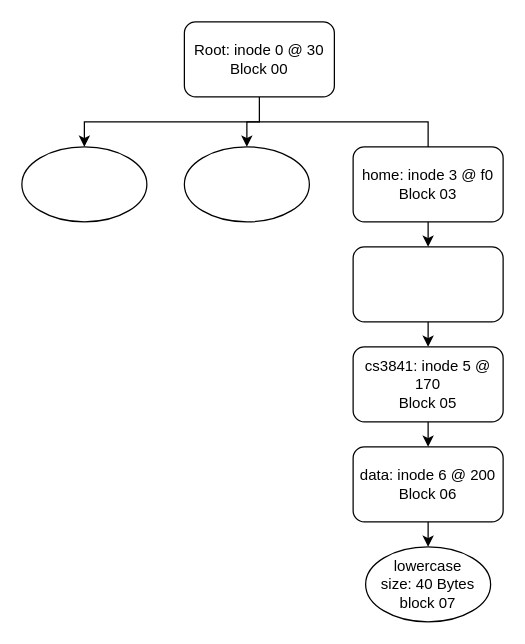
Some shapes in this 525 by 644 pixel diagram are drawn without their labels. The centre of each missing label's shape, as x and y in pixels:
bank: inode 4 @ 130 Block 04: the point at 427,284
letters Size: 100 Bytes block 01: the point at 84,184
text size: 1034 Bytes block 02: the point at 246,184
